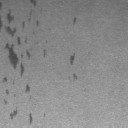red iron: (0, 0, 39, 76), (3, 78, 18, 120), (30, 112, 46, 124), (44, 39, 48, 58), (72, 16, 78, 25), (70, 54, 75, 64), (72, 73, 78, 80), (26, 84, 30, 92)
